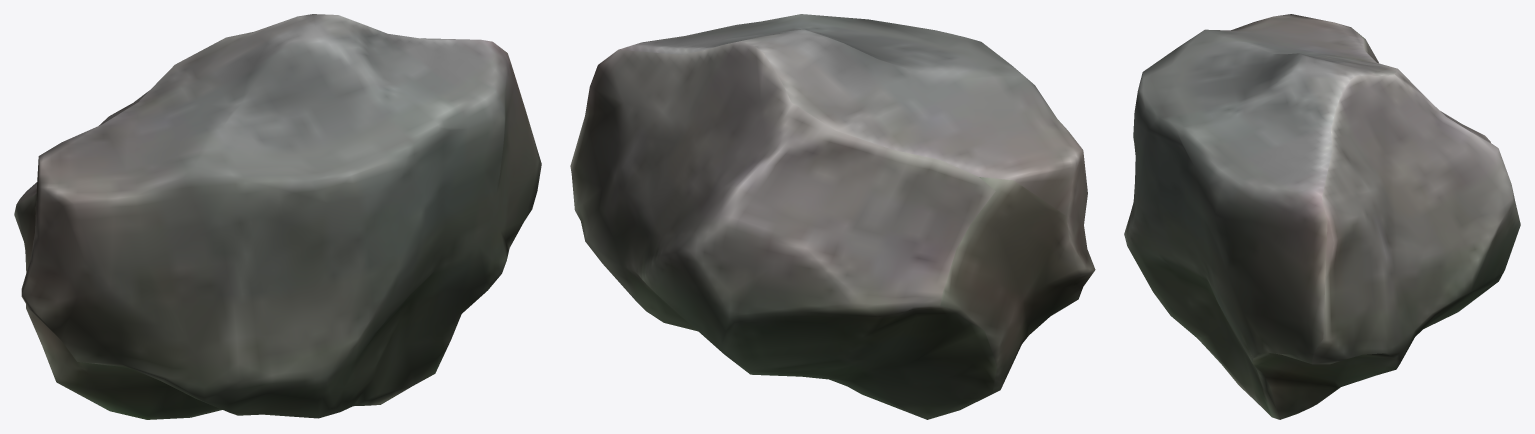
File: rock-small.lod0.glb
The picture shows the model from 3 angles, left to right: view 1: azimuth 30°, elevation 25°; view 2: azimuth 150°, elevation 25°; view 3: azimuth 270°, elevation 25°; orthographic projection. The views are drawn at different scales.
Parts seen in each view (by area): view 1: Small_3_SMall_0; view 2: Small_3_SMall_0; view 3: Small_3_SMall_0.
Part boxes in pixels (box(x1,y1,x2,y2)): Small_3_SMall_0: box(14, 14, 541, 419); Small_3_SMall_0: box(570, 14, 1095, 419); Small_3_SMall_0: box(1124, 14, 1520, 419).
Bounding box in the file's own units: 1.6 × 1.03 × 1.17.
1 material, 1 textured.
